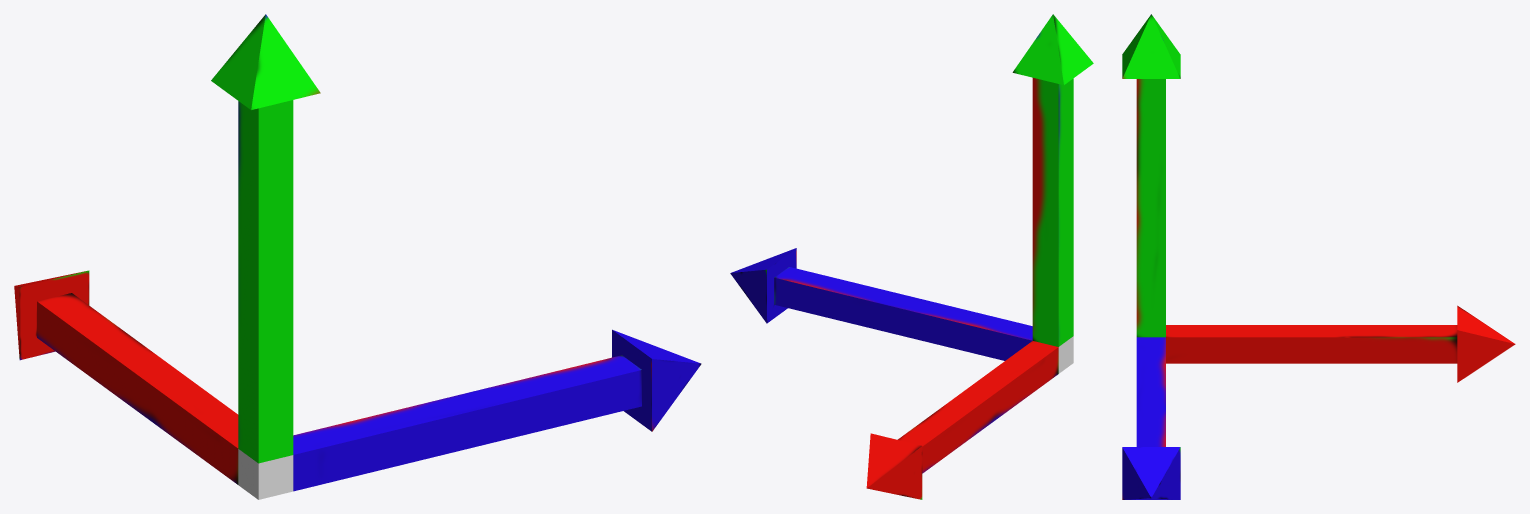
The model's file is Axis_Model.glb.
3 renders of one model, left to right at view 1: azimuth 30°, elevation 25°; view 2: azimuth 150°, elevation 25°; view 3: azimuth 270°, elevation 25°, orthographic. The views are drawn at different scales.
Parts seen in each view (by area): view 1: Cube; view 2: Cube; view 3: Cube.
Part boxes in pixels (x1,y1,x2,y2): Cube: [14, 14, 701, 499]; Cube: [730, 14, 1093, 499]; Cube: [1122, 14, 1515, 499].
Bounding box in the file's own units: 27 × 27 × 27.
4 materials, 3 textured.
